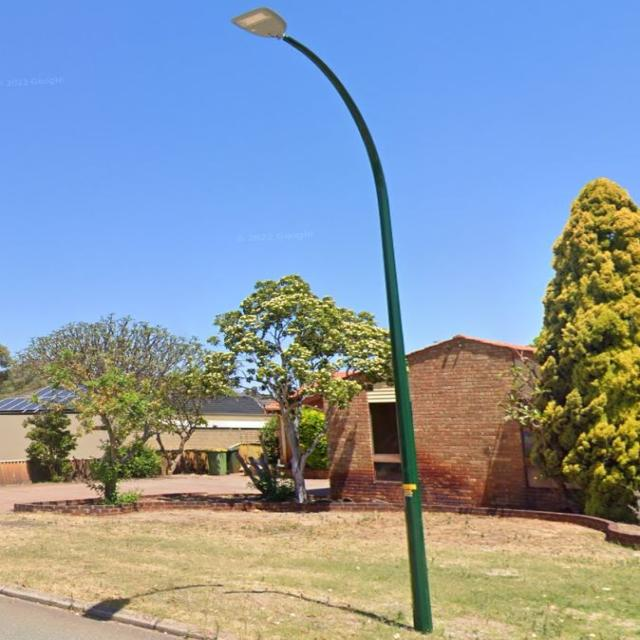steel-pole: (374, 173, 434, 634)
streetlight: (232, 7, 390, 210)
